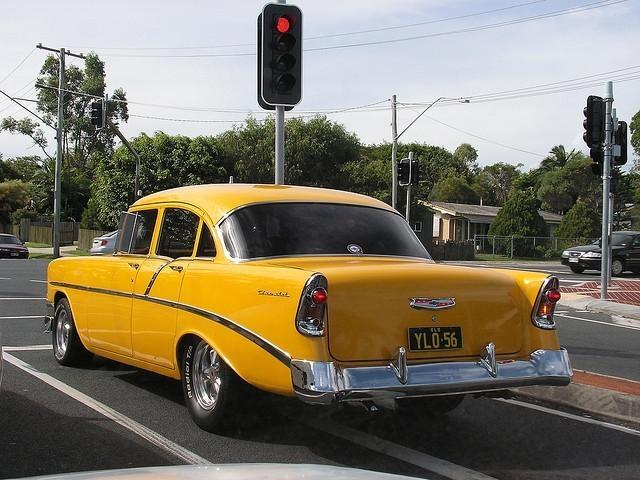car: (46, 179, 568, 428), (559, 231, 639, 277), (1, 234, 30, 259), (89, 229, 118, 253)
